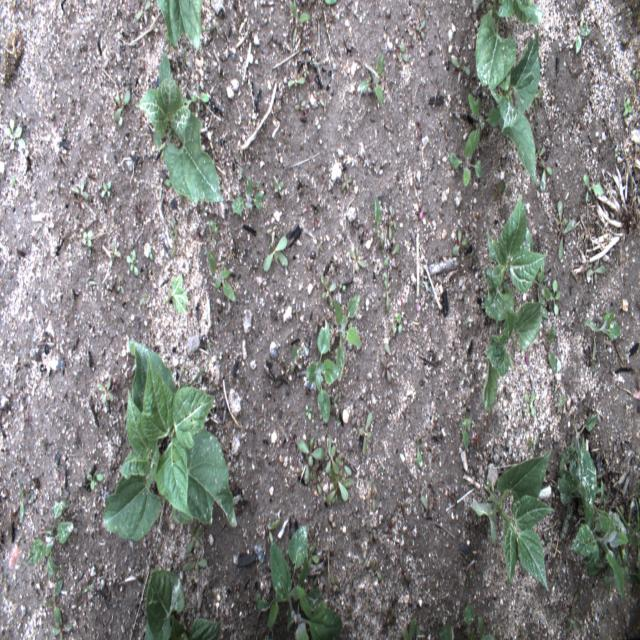crop: (103, 338, 236, 542), (139, 50, 221, 206), (469, 447, 554, 591), (484, 189, 546, 324), (268, 526, 340, 639), (492, 33, 542, 186), (483, 302, 541, 411), (474, 0, 544, 89), (144, 569, 223, 639), (156, 0, 202, 52), (163, 273, 189, 314), (296, 620, 308, 640)
weed: (568, 478, 632, 607), (556, 411, 602, 539), (25, 498, 74, 581), (306, 321, 339, 427), (333, 295, 363, 382), (583, 312, 624, 372), (616, 490, 639, 590), (467, 93, 501, 156), (448, 139, 483, 190), (358, 50, 387, 110), (202, 249, 236, 300), (179, 342, 211, 387), (287, 0, 314, 50), (233, 176, 267, 213), (438, 606, 476, 638), (261, 234, 289, 271), (43, 577, 64, 625), (462, 612, 497, 638), (296, 438, 326, 467), (17, 480, 36, 524), (575, 8, 593, 54), (357, 410, 373, 461), (544, 320, 558, 376), (558, 220, 576, 262), (455, 413, 474, 452), (112, 88, 130, 129), (4, 119, 26, 151), (188, 81, 211, 110), (544, 280, 562, 317), (325, 435, 340, 477), (450, 56, 471, 86), (582, 172, 603, 201), (537, 267, 548, 318), (373, 190, 383, 246), (185, 526, 204, 554), (320, 276, 336, 308), (555, 199, 569, 235), (348, 246, 368, 271), (539, 160, 554, 193), (134, 0, 153, 26), (450, 230, 469, 256), (49, 622, 76, 640), (382, 270, 393, 314), (96, 377, 114, 403), (383, 242, 401, 268), (288, 341, 300, 379), (182, 559, 207, 577), (109, 236, 122, 270), (325, 470, 338, 504), (265, 517, 282, 543), (400, 614, 417, 640), (586, 260, 606, 282), (70, 177, 89, 200), (398, 556, 412, 587), (88, 468, 106, 491), (566, 611, 583, 635), (395, 39, 409, 66), (365, 521, 380, 546), (387, 205, 397, 242), (252, 592, 270, 612), (380, 354, 392, 384), (379, 604, 395, 626), (522, 393, 537, 416), (286, 74, 304, 93), (369, 558, 382, 584), (391, 310, 403, 338), (552, 394, 568, 415), (100, 176, 113, 201), (414, 17, 427, 42), (415, 436, 425, 468), (339, 173, 354, 194), (311, 473, 323, 499), (352, 406, 364, 431), (493, 179, 506, 201), (341, 466, 355, 486), (292, 299, 302, 327), (127, 252, 139, 275), (370, 478, 378, 512), (294, 94, 308, 113), (330, 574, 342, 596), (534, 87, 544, 113), (272, 176, 286, 194), (421, 492, 432, 514), (569, 587, 580, 609), (206, 220, 218, 240), (307, 52, 322, 68), (168, 235, 178, 258), (309, 540, 318, 565), (512, 622, 526, 638), (419, 620, 432, 637), (258, 406, 268, 428), (384, 516, 395, 536), (623, 99, 634, 118), (339, 479, 348, 502), (81, 230, 93, 247), (136, 292, 148, 308), (528, 436, 540, 452), (484, 410, 492, 433), (84, 277, 98, 290), (168, 219, 180, 234), (117, 273, 125, 295), (304, 466, 312, 488), (163, 179, 175, 193), (201, 23, 219, 32), (305, 403, 314, 421), (550, 562, 557, 584), (314, 571, 322, 590), (10, 174, 18, 192), (82, 582, 94, 594), (537, 145, 546, 161), (543, 530, 551, 548), (146, 247, 154, 263), (266, 224, 280, 233), (333, 394, 339, 414), (632, 67, 640, 82), (323, 0, 337, 8), (338, 280, 346, 293), (385, 342, 392, 356), (462, 315, 468, 329), (301, 342, 306, 355)
